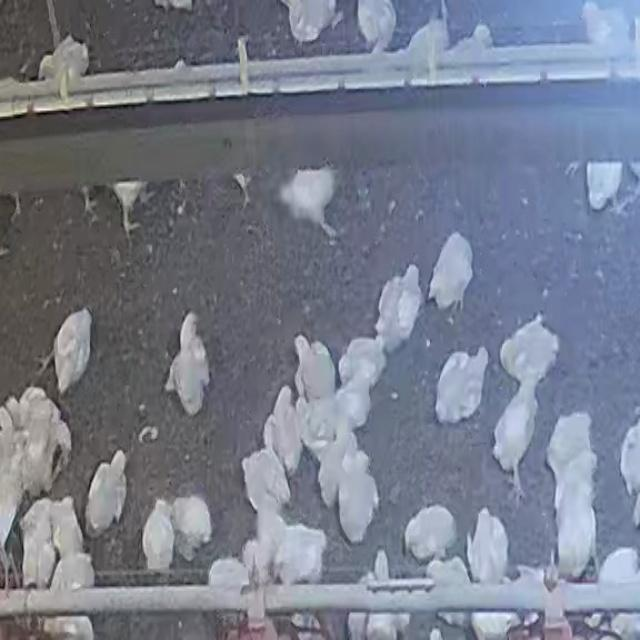chicken: (486, 371, 532, 484), (167, 311, 213, 418), (372, 263, 428, 350), (497, 313, 566, 381), (38, 550, 91, 637), (337, 449, 383, 545), (41, 311, 95, 390), (467, 499, 510, 597), (551, 409, 591, 513), (430, 230, 480, 313), (19, 498, 60, 599), (429, 553, 481, 626), (436, 348, 487, 421), (320, 413, 359, 508), (269, 382, 307, 478), (238, 449, 292, 516), (86, 451, 126, 539), (312, 377, 377, 431), (360, 547, 397, 640), (296, 334, 339, 408), (339, 332, 386, 396), (171, 494, 214, 563), (404, 505, 452, 561), (142, 501, 176, 572), (47, 497, 81, 568)
